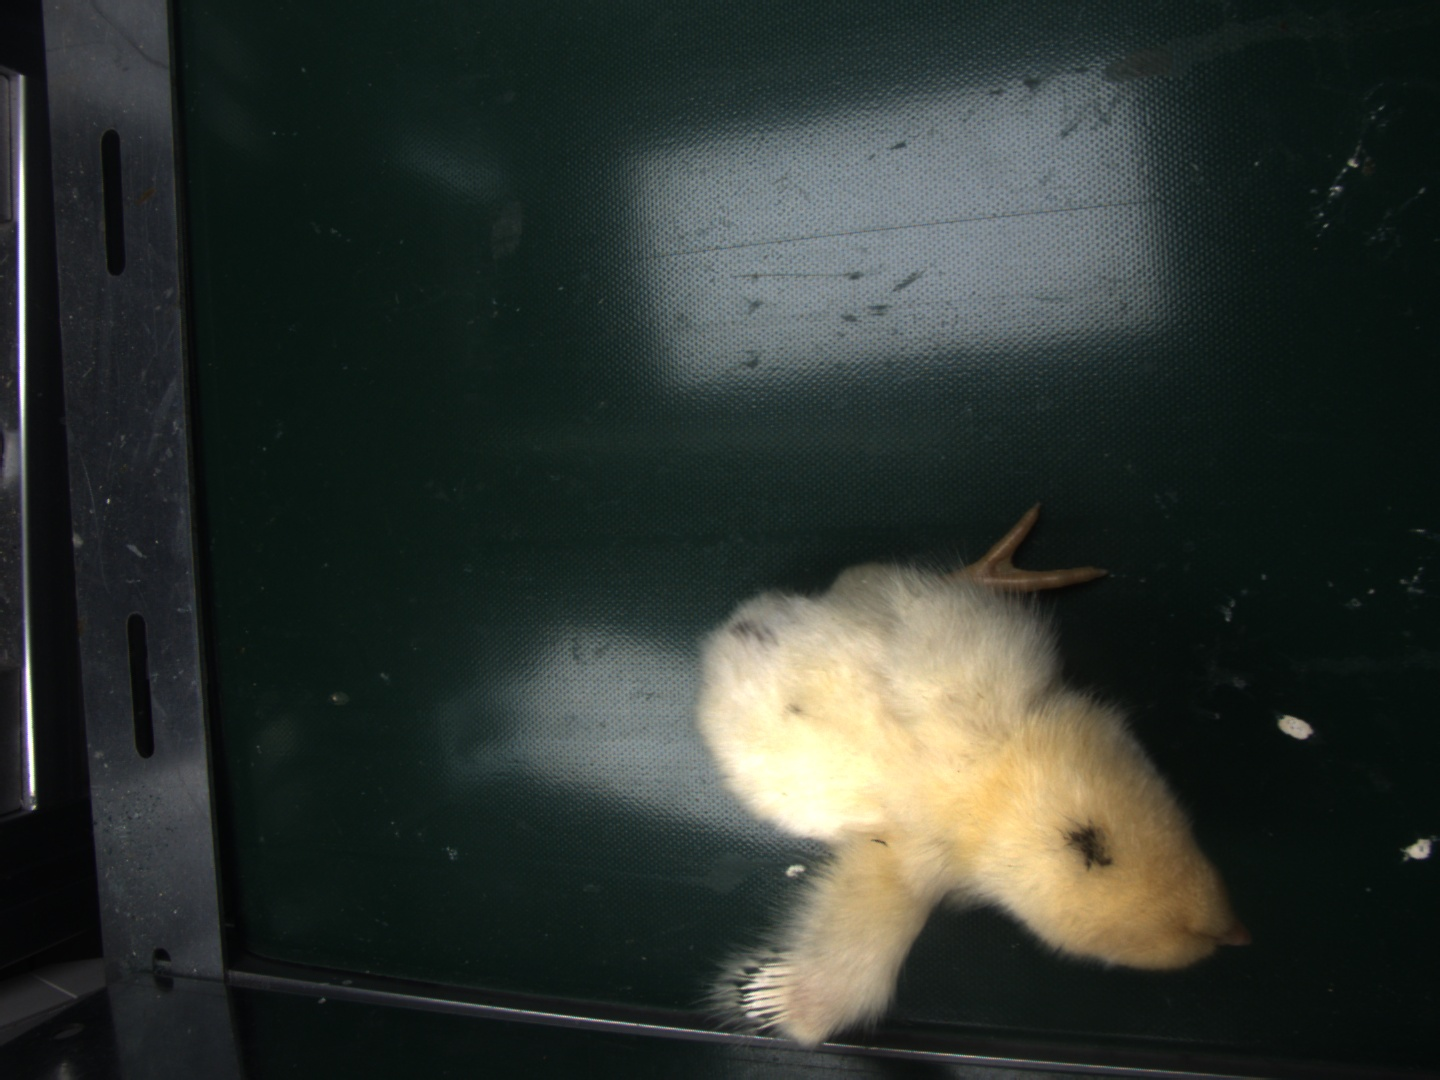male: (738, 957, 796, 1044)
